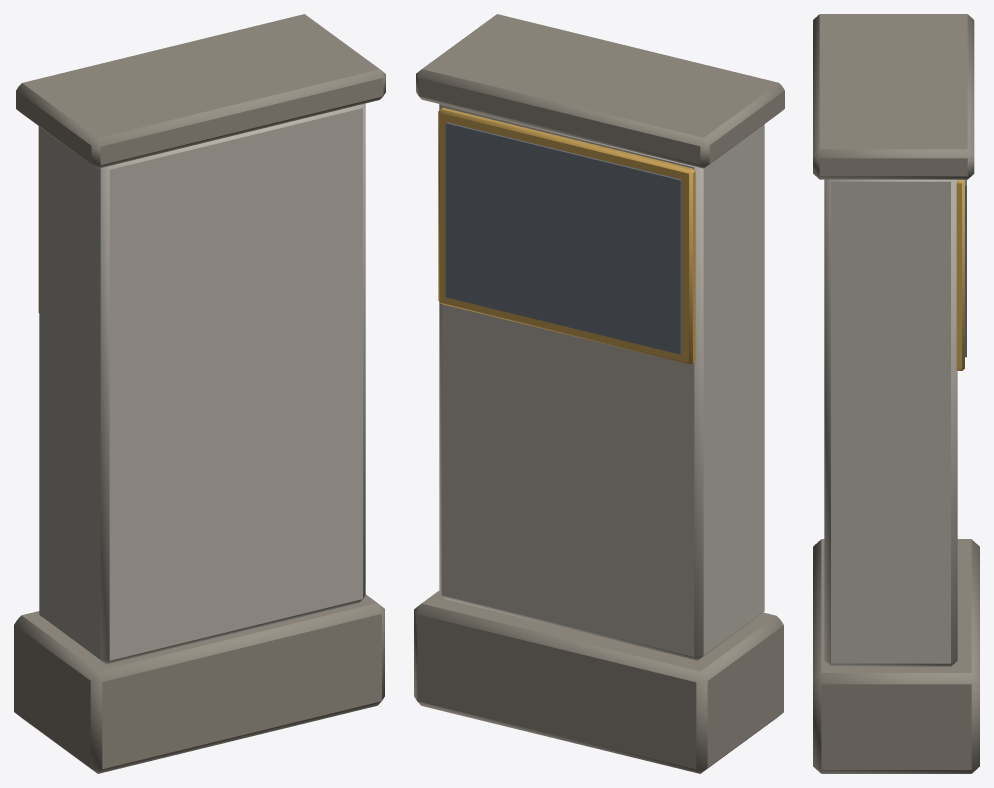
Rendered from plaque.glb.
The picture shows the model from 3 angles, left to right: view 1: azimuth 30°, elevation 25°; view 2: azimuth 150°, elevation 25°; view 3: azimuth 270°, elevation 25°; orthographic projection.
Parts seen in each view (by area): view 1: body; view 2: body; view 3: body.
Boxes of the visible parts, <box> form: body: <box>14,14,385,773</box>; body: <box>414,14,784,773</box>; body: <box>813,14,979,773</box>.
Size of the model in its own units: 0.6 by 1.24 by 0.3.
